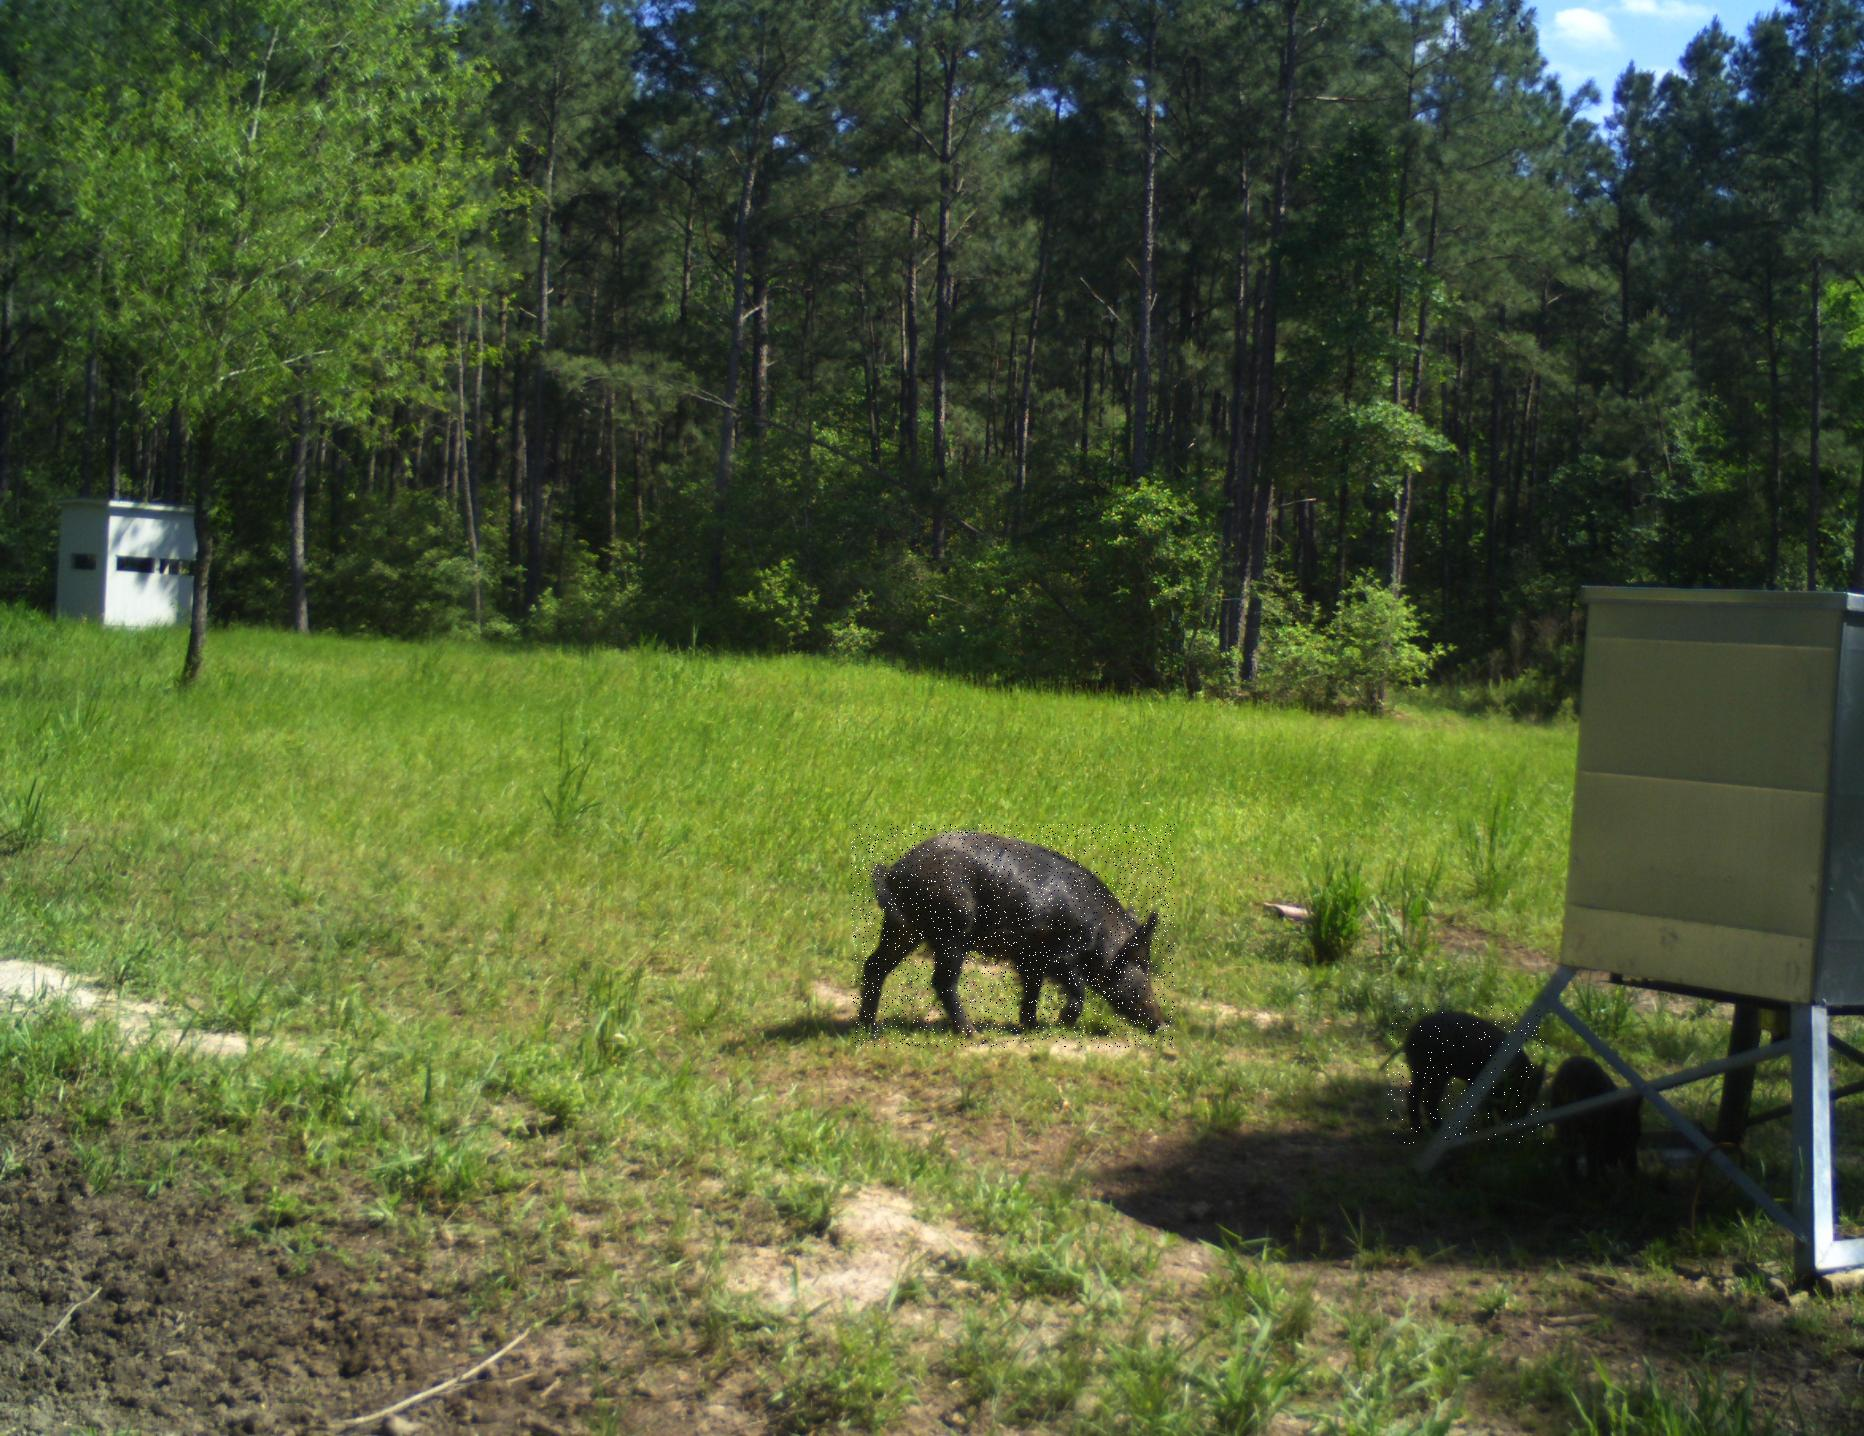Hog: (851, 824, 1175, 1048), (1386, 1006, 1544, 1143)
